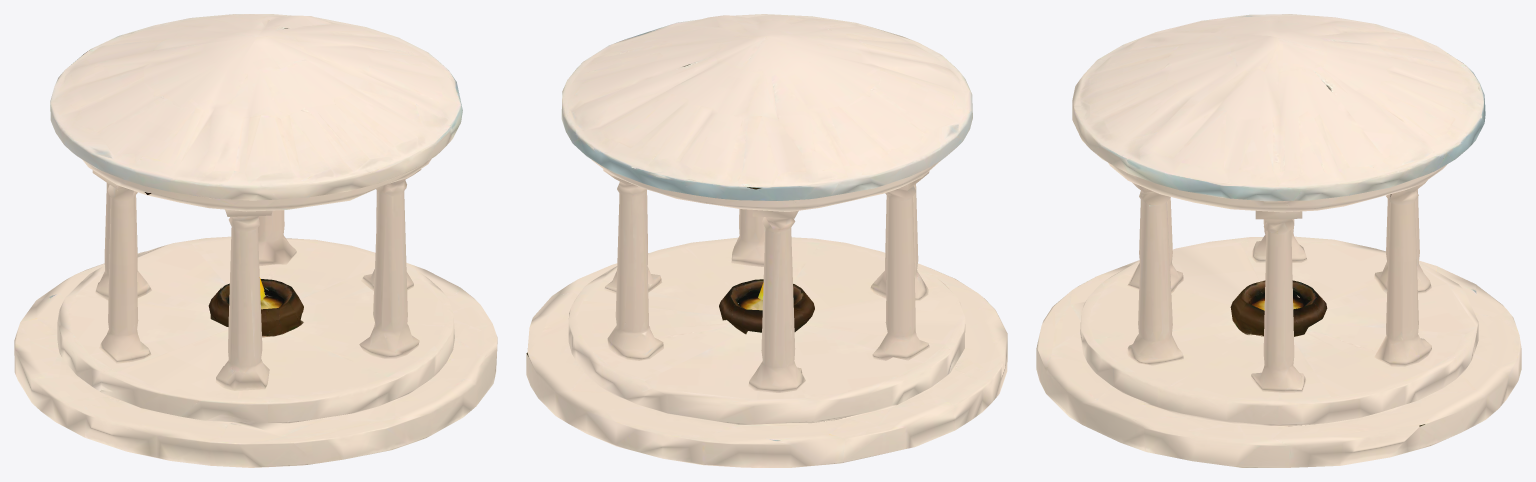
Rendered from temple.glb.
The picture shows the model from 3 angles, left to right: view 1: azimuth 30°, elevation 25°; view 2: azimuth 150°, elevation 25°; view 3: azimuth 270°, elevation 25°; orthographic projection.
Bounding box in the file's own units: 1.91 × 1.43 × 1.91.
1 material, 1 textured.
